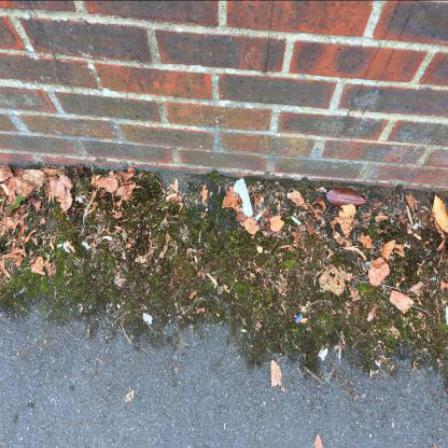Aluminium foil: (235, 179, 254, 218)
Other plastic: (294, 313, 305, 326)
